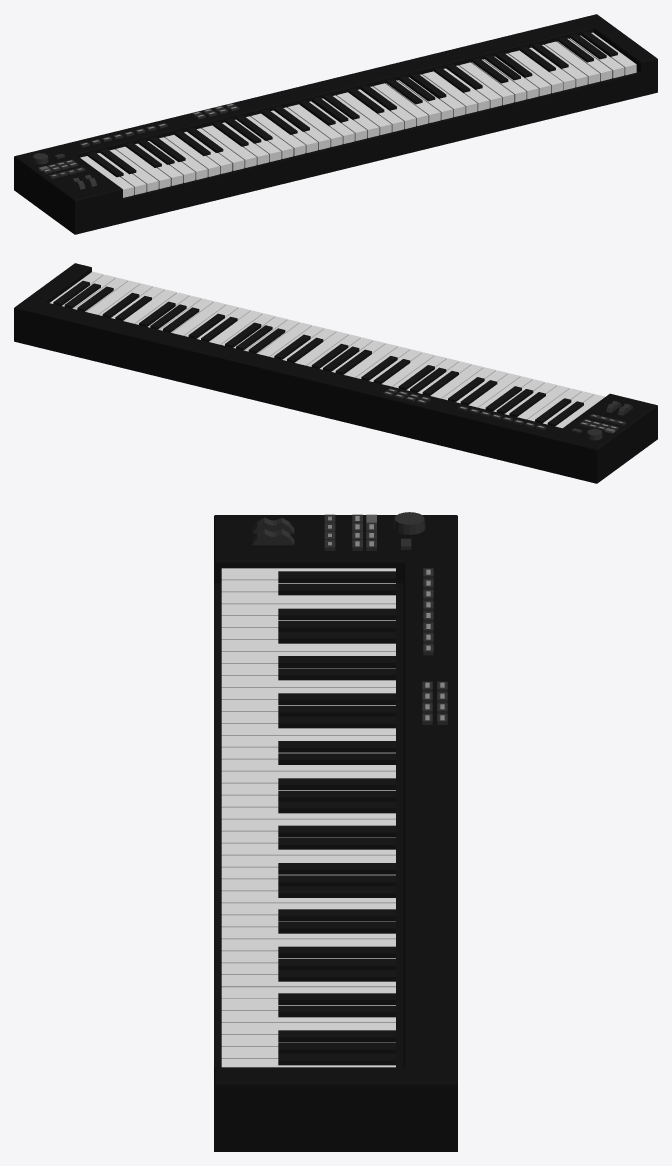
The model's file is Midi Keyboard15.fbx.
3 views of the same model, one above another, from view 1: azimuth 30°, elevation 25°; view 2: azimuth 150°, elevation 25°; view 3: azimuth 270°, elevation 25° (orthographic). The views are drawn at different scales.
Visible parts, largest first — view 1: 49keysmidi.016; view 2: 49keysmidi.016; view 3: 49keysmidi.016.
Part boxes in pixels (x1,y1,x2,y2): 49keysmidi.016: (14, 14, 657, 234); 49keysmidi.016: (14, 263, 657, 483); 49keysmidi.016: (214, 512, 457, 1151).
Bounding box in the file's own units: 110 × 7.25 × 20.
